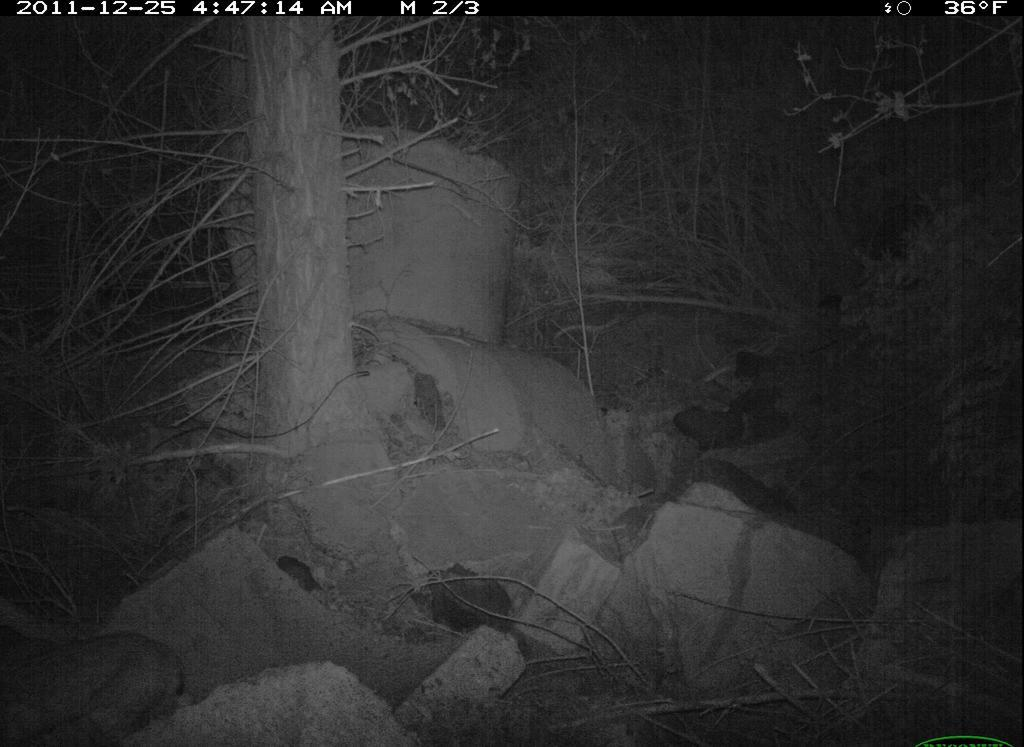bobcat: (1, 626, 199, 747)
